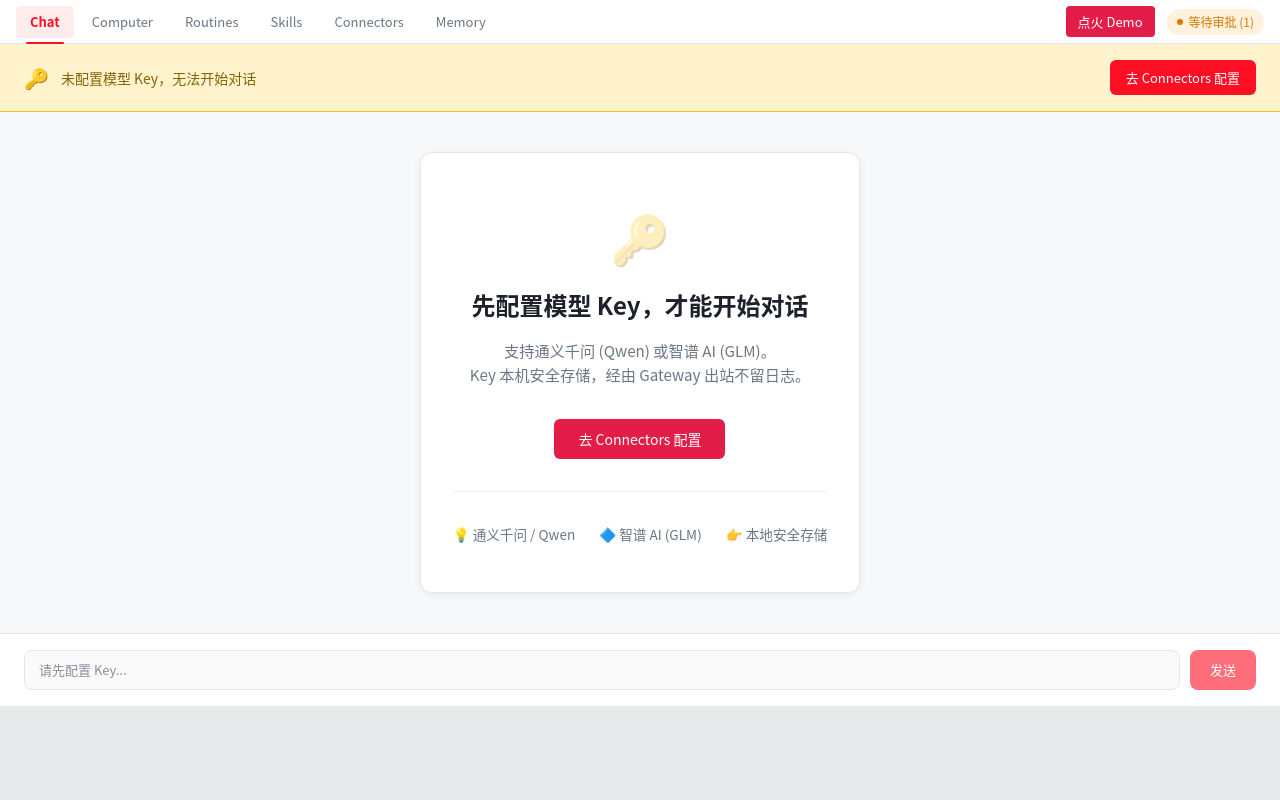
TC-APPROVAL-PILL-INTERACTIVE: 审批 pill 可解除计数 › 场景 2: 点击「通过」→ 计数变为 0 + Toast + pill 状态变 › should clear approval count and show feedback when approved
The width and height of the screenshot is (1280, 800).
// 1. 打开审批面板
Step 1. Click the element with class "wait" → [1215, 22], box [1166,8,1264,34]
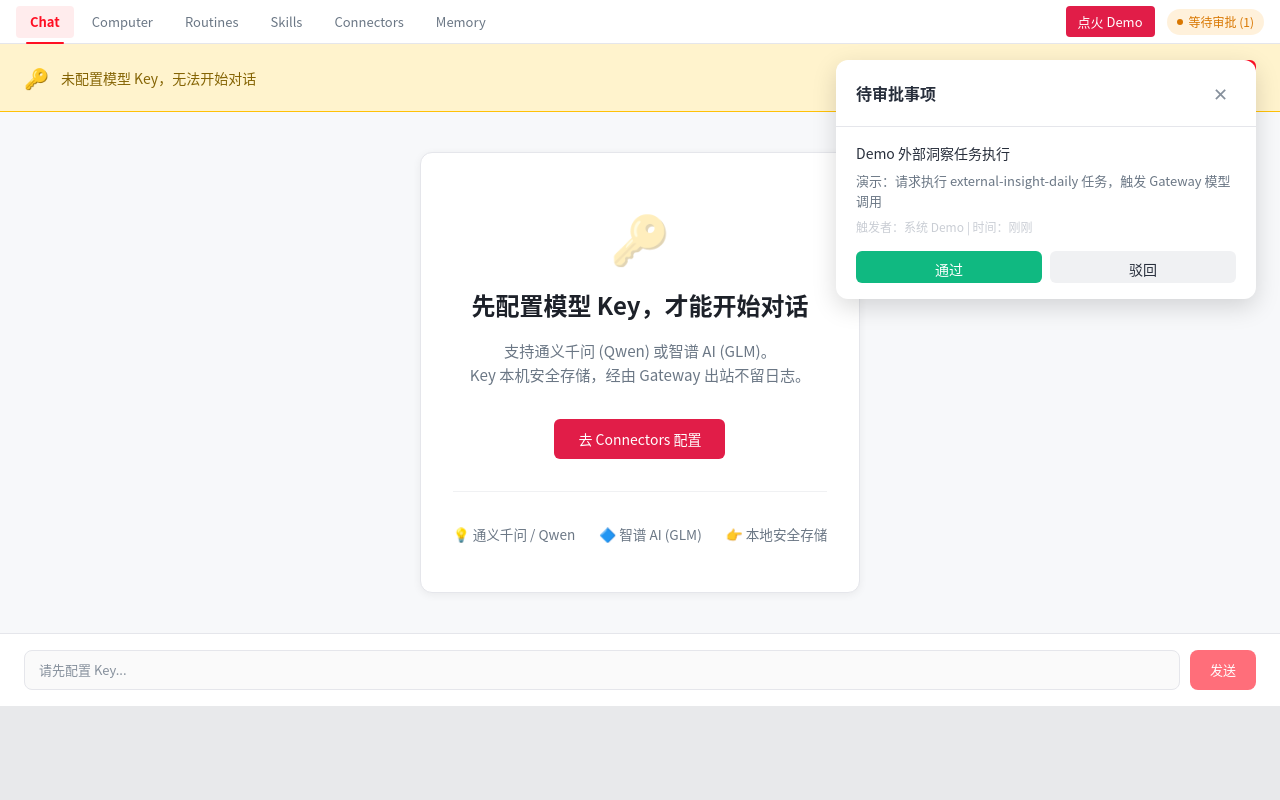
Check: the element with class "approval-panel" is shown, box [836,60,1256,299]
Check: the button with class "btn-approve" is shown
Step 2. Click the button with class "btn-approve" → [949, 267], box [856,251,1042,283]
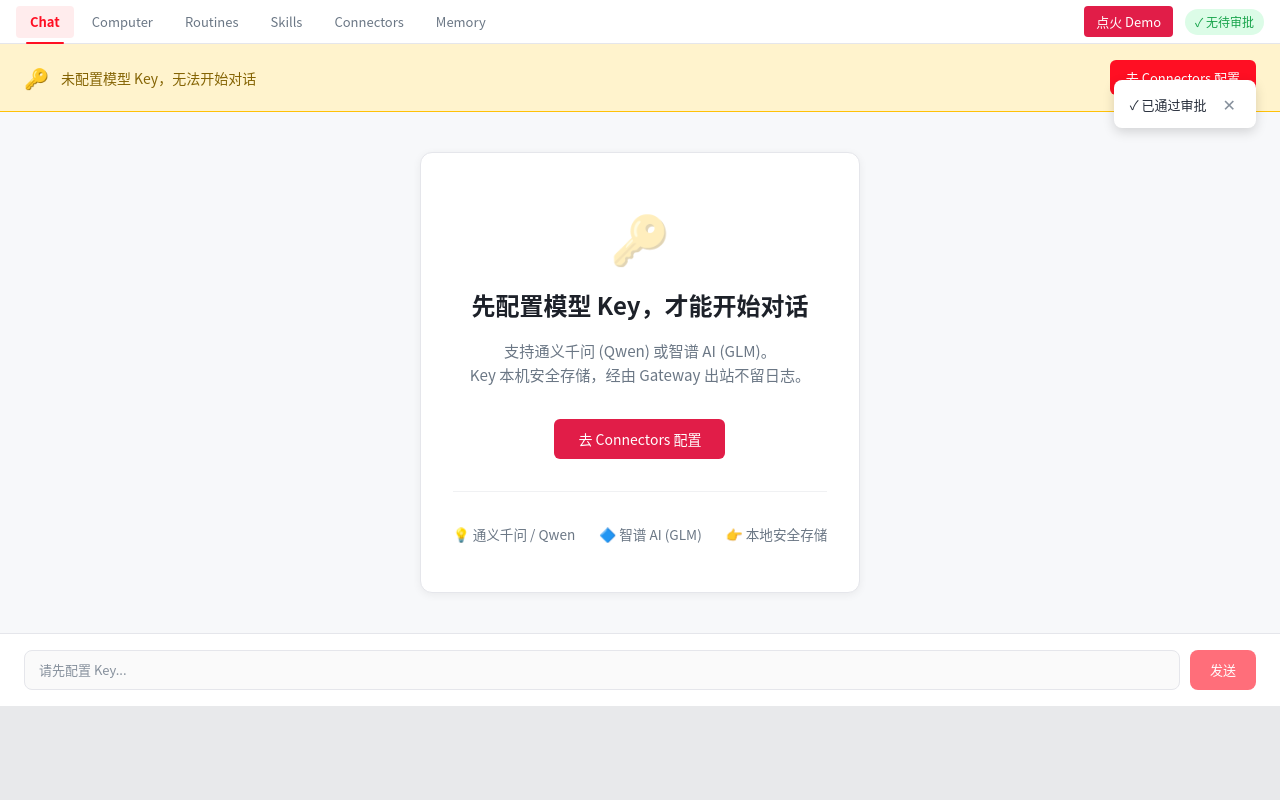
Check: the element with class "approval-panel" is gone
Check: the element with class "approval-feedback-toast" is shown, box [1114,80,1256,128]
Check: the element with class "approval-feedback-toast" shows "已通过审批", box [1130,94,1207,114]
